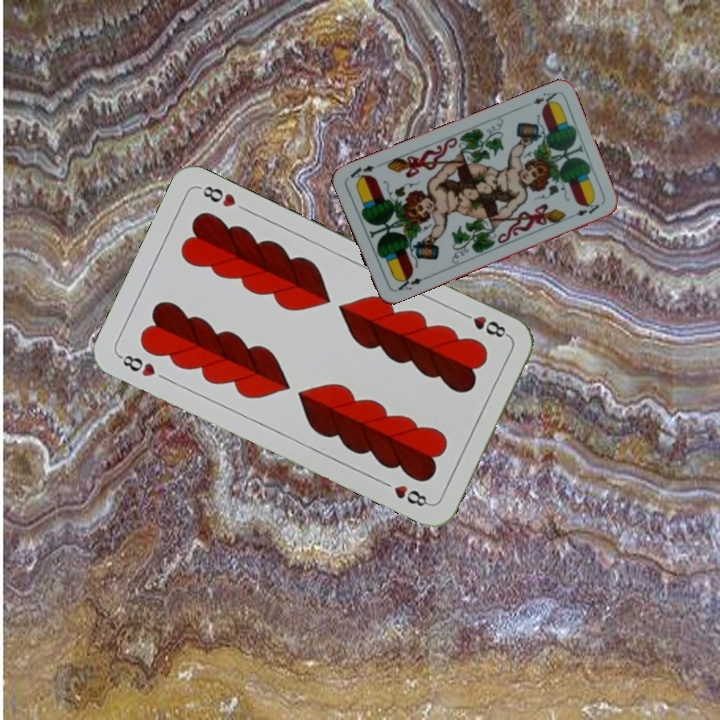EA: (391, 270, 425, 294), (529, 88, 560, 109)
H8: (456, 308, 512, 340), (115, 350, 158, 380)
